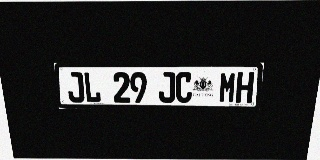2: (113, 72, 130, 103)
9: (130, 72, 147, 103)
C: (175, 72, 193, 103)
H: (235, 72, 254, 103)
J: (66, 72, 85, 103), (159, 72, 175, 103)
L: (83, 72, 101, 103)
M: (218, 72, 237, 103)
